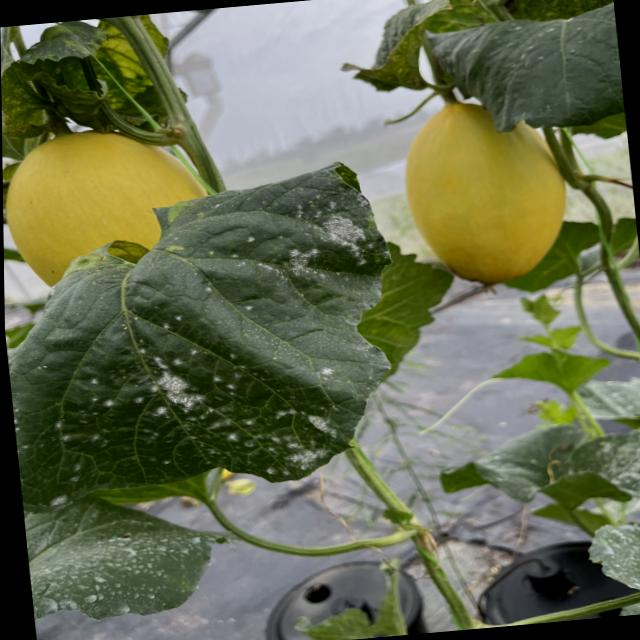CMV: (0, 17, 117, 139)
healthy: (425, 0, 626, 141)
powdery mildew: (2, 154, 418, 512), (22, 487, 247, 631), (583, 510, 640, 611)
